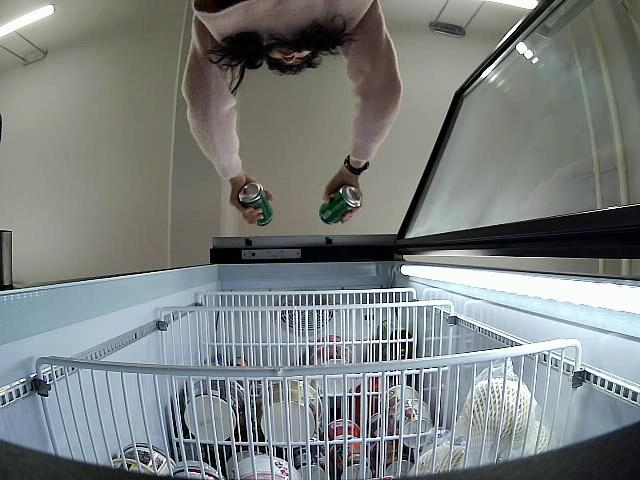00_hand: (321, 177, 365, 226), (229, 177, 271, 224)
12_chilsungCider: (239, 183, 275, 228), (320, 187, 361, 224)
